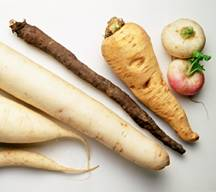turnip: (166, 57, 213, 124), (157, 16, 210, 63)
